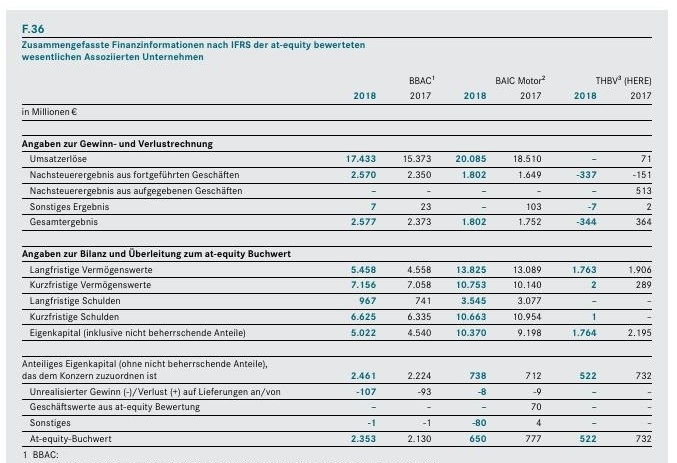table: (0, 0, 677, 463)
